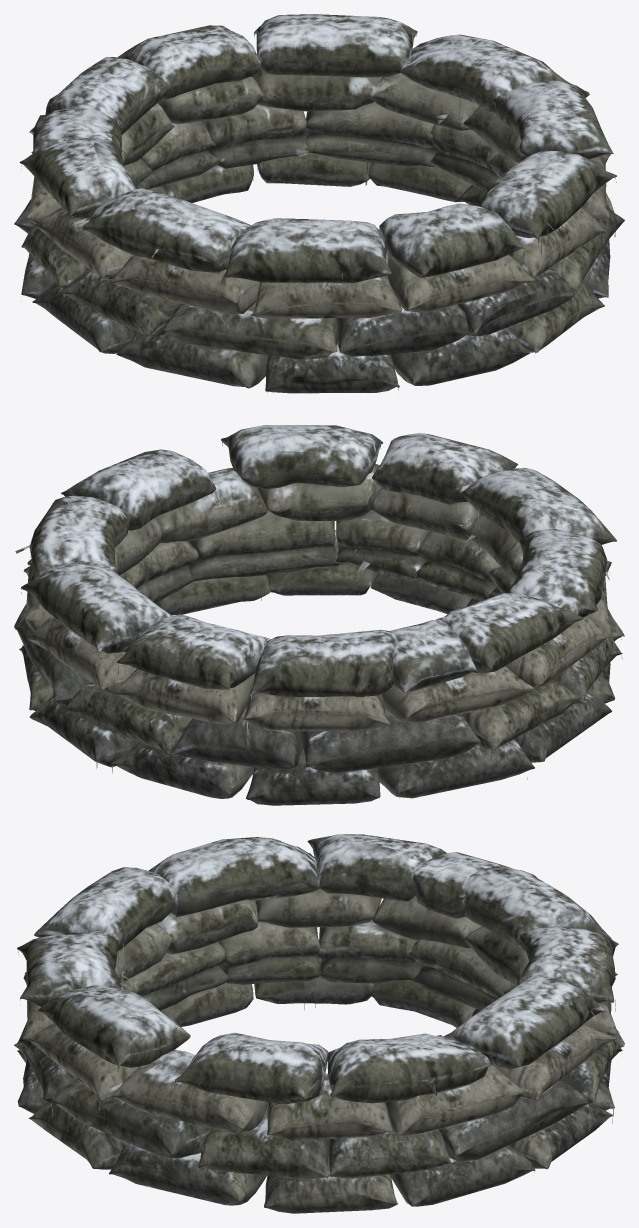
File: road_sandbag_nest.glb
3 views of the same model, one above another, from view 1: azimuth 30°, elevation 25°; view 2: azimuth 150°, elevation 25°; view 3: azimuth 270°, elevation 25° (orthographic).
Bounding box in the file's own units: 0.9502 × 0.269 × 0.9512.
1 material, 1 textured.
